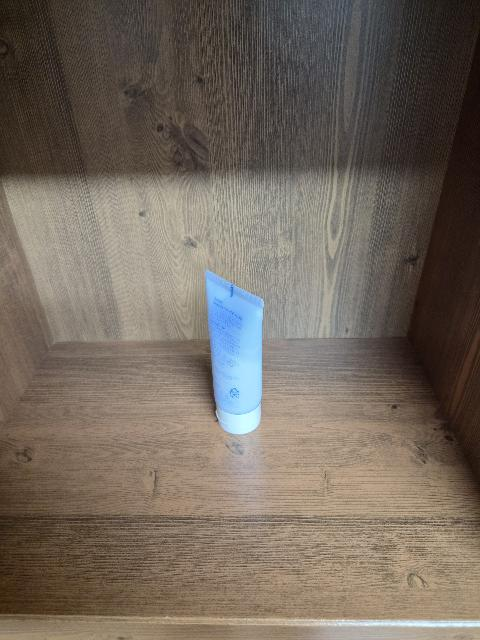handcream: (205, 270, 264, 435)
